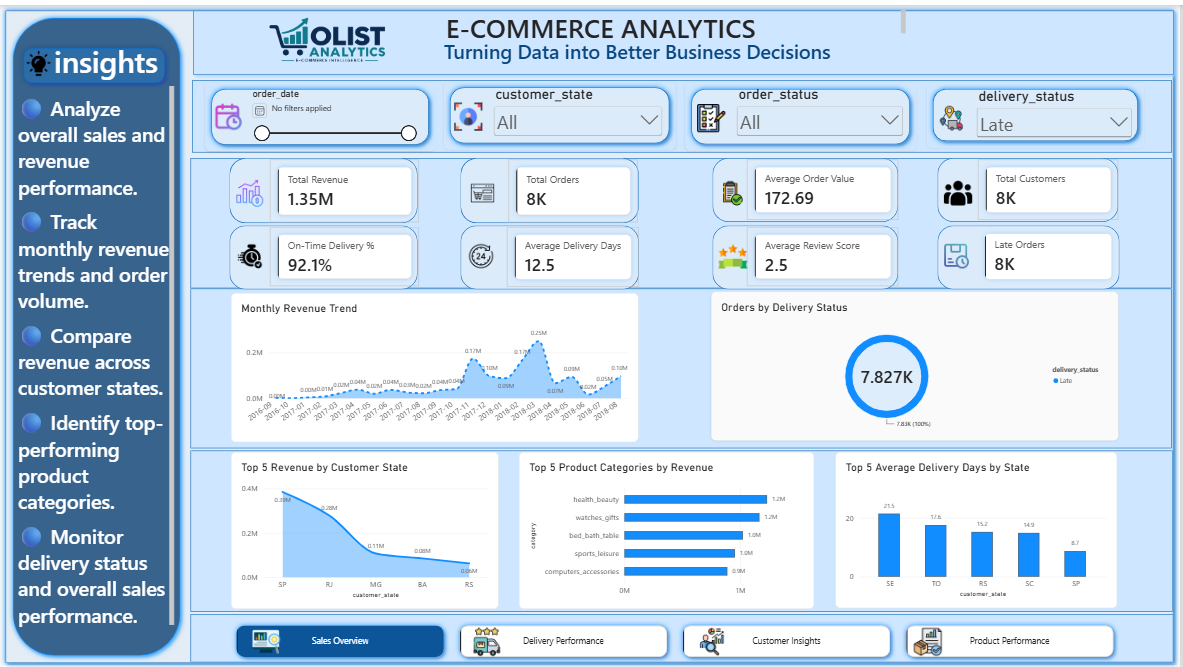

What the dashboard file says about the page in this screenshot:
{"tool":"powerbi","page":{"name":"Sales Overview","canvas":[1920,1080],"ordinal":0},"visuals":[{"type":"shape","box":[0,0,1917.6,1079.4],"z":0},{"type":"shape","box":[304.4,0,1613.3,122.2],"z":1000},{"type":"textbox","box":[725.4,6.6,748.5,46.4],"z":2000},{"type":"textbox","box":[722,53,828,46.4],"z":3000},{"type":"shape","box":[312,122,1594,118],"z":4000},{"type":"shape","box":[335,126,373.8,110.8],"z":5000},{"type":"shape","box":[723,125,376.9,110.8],"z":6000},{"type":"shape","box":[1116,126,375,110],"z":7000},{"type":"shape","box":[1509,128,353.3,105],"z":8000},{"type":"slicer","fields":{"Values":["Ecommerce.order_date"]},"box":[401.7,133.3,278.3,95],"z":9000},{"type":"slicer","fields":{"Values":["Ecommerce.customer_state"]},"box":[798,132,284,96],"z":10000},{"type":"slicer","fields":{"Values":["Ecommerce.order_status"]},"box":[1194,132,280,104],"z":11000},{"type":"slicer","fields":{"Values":["Ecommerce.delivery_status"]},"box":[1584,134,262,104],"z":12000},{"type":"shape","box":[310,250,1596,212],"z":13000},{"type":"shape","box":[310,460,1596,260],"z":14000},{"type":"shape","box":[310,723.8,1597.5,262.5],"z":15000},{"type":"shape","box":[308.8,991.2,1598.8,78.8],"z":16000},{"type":"shape","box":[1524,358,296,104],"z":17000},{"type":"shape","box":[1524,250,294,104],"z":18000},{"type":"shape","box":[1158,250,302,104],"z":19000},{"type":"shape","box":[1158,358,302,104],"z":20000},{"type":"shape","box":[748,250,290,106],"z":21000},{"type":"shape","box":[748,358,290,104],"z":22000},{"type":"shape","box":[374,250,306,106],"z":23000},{"type":"shape","box":[374,358,306,104],"z":24000},{"type":"cardVisual","fields":{"Data":["Ecommerce.Total Revenue"]},"box":[438,252,242,102],"z":25000},{"type":"cardVisual","fields":{"Data":["Ecommerce.Total Orders"]},"box":[828,252,210,102],"z":26000},{"type":"cardVisual","fields":{"Data":["Ecommerce.Average Order Value"]},"box":[1214,252,246,98],"z":27000},{"type":"cardVisual","fields":{"Data":["Ecommerce.Total Customers"]},"box":[1590,252,228,98],"z":28000},{"type":"cardVisual","fields":{"Data":["Ecommerce.On-Time Delivery %"]},"box":[438,362,242,96],"z":29000},{"type":"cardVisual","fields":{"Data":["Ecommerce.Average Delivery Days"]},"box":[823.5,361.8,214.7,97.1],"z":30000},{"type":"cardVisual","fields":{"Data":["Ecommerce.Average Review Score"]},"box":[1214,362,246,96],"z":31000},{"type":"cardVisual","fields":{"Data":["Ecommerce.Late Orders"]},"box":[1590,362,228,96],"z":32000},{"type":"lineChart","title":"Monthly Revenue Trend","fields":{"Category":["Ecommerce.order_month"],"Y":["Ecommerce.Total Revenue"]},"box":[375,467.5,662.5,242.5],"z":33000},{"type":"donutChart","title":"Orders by Delivery Status","fields":{"Category":["Ecommerce.delivery_status"],"Y":["Count(Ecommerce.order_id)"]},"box":[1157.5,465,662.5,242.5],"z":34000},{"type":"areaChart","title":"Top 5 Revenue by Customer State","fields":{"Category":["Ecommerce.customer_state"],"Y":["Ecommerce.Total Revenue"]},"box":[375,727.5,435,255],"z":35000},{"type":"clusteredBarChart","title":"Top 5 Product Categories by Revenue","fields":{"Category":["olist_ecommerce powerbi_category_sales.category"],"Y":["Sum(olist_ecommerce powerbi_category_sales.product_revenue)"]},"box":[845,727.5,480,255],"z":36000},{"type":"clusteredColumnChart","title":"Top 5 Average Delivery Days by State","fields":{"Category":["Ecommerce.customer_state"],"Y":["Ecommerce.Average Delivery Days"]},"box":[1360,728,458,254],"z":37000},{"type":"pageNavigator","box":[376.9,1000.6,1445,69.4],"z":38000},{"type":"image","box":[340,158,61.7,46.7],"z":39000},{"type":"image","box":[724,158,74,46],"z":40000},{"type":"image","box":[1120,162,74,46],"z":41000},{"type":"image","box":[1510,160,74,46],"z":42000},{"type":"image","box":[376,282,61.7,46.7],"z":43000},{"type":"image","box":[754,282,62,46],"z":44000},{"type":"image","box":[1162,282,61.7,46.7],"z":45000},{"type":"image","box":[1528,282,62,46],"z":46000},{"type":"image","box":[376,386,61.7,46.7],"z":47000},{"type":"image","box":[752,386,62,46],"z":48000},{"type":"image","box":[1162,386,61.7,46.7],"z":49000},{"type":"image","box":[1526,386,62,46],"z":50000},{"type":"image","box":[402,1012,61.7,46.7],"z":51000},{"type":"image","box":[762,1012,61.7,46.7],"z":52000},{"type":"image","box":[1126,1012,61.7,46.7],"z":53000},{"type":"image","box":[1478,1012,61.7,46.7],"z":54000},{"type":"image","box":[313.3,0,440,113.3],"z":55000},{"type":"shape","box":[12.5,12.5,290,1055],"z":56000},{"type":"textbox","box":[29.7,132.4,254.1,878.4],"z":57000},{"type":"shape","box":[30,60,247.5,75],"z":58000},{"type":"textbox","box":[87.1,57.9,189.3,64.3],"z":59000},{"type":"image","box":[41.7,60,42.5,67.5],"z":60000}]}

Visuals, with their boxes in screenshot pixels (x1, y1, x2, y2), scaled from the page's 1920x1080 canvas onto the 1183x667 screenshot:
shape: x1=0 y1=0 x2=1182 y2=666
shape: x1=188 y1=0 x2=1182 y2=75
textbox: x1=447 y1=4 x2=908 y2=33
textbox: x1=445 y1=33 x2=955 y2=61
shape: x1=192 y1=75 x2=1174 y2=148
shape: x1=206 y1=78 x2=437 y2=146
shape: x1=445 y1=77 x2=678 y2=146
shape: x1=688 y1=78 x2=919 y2=146
shape: x1=930 y1=79 x2=1147 y2=144
slicer - Ecommerce.order_date: x1=248 y1=82 x2=419 y2=141
slicer - Ecommerce.customer_state: x1=492 y1=82 x2=667 y2=141
slicer - Ecommerce.order_status: x1=736 y1=82 x2=908 y2=146
slicer - Ecommerce.delivery_status: x1=976 y1=83 x2=1137 y2=147
shape: x1=191 y1=154 x2=1174 y2=285
shape: x1=191 y1=284 x2=1174 y2=445
shape: x1=191 y1=447 x2=1175 y2=609
shape: x1=190 y1=612 x2=1175 y2=661
shape: x1=939 y1=221 x2=1121 y2=285
shape: x1=939 y1=154 x2=1120 y2=219
shape: x1=713 y1=154 x2=900 y2=219
shape: x1=713 y1=221 x2=900 y2=285
shape: x1=461 y1=154 x2=640 y2=220
shape: x1=461 y1=221 x2=640 y2=285
shape: x1=230 y1=154 x2=419 y2=220
shape: x1=230 y1=221 x2=419 y2=285
cardVisual - Ecommerce.Total Revenue: x1=270 y1=156 x2=419 y2=219
cardVisual - Ecommerce.Total Orders: x1=510 y1=156 x2=640 y2=219
cardVisual - Ecommerce.Average Order Value: x1=748 y1=156 x2=900 y2=216
cardVisual - Ecommerce.Total Customers: x1=980 y1=156 x2=1120 y2=216
cardVisual - Ecommerce.On-Time Delivery %: x1=270 y1=224 x2=419 y2=283
cardVisual - Ecommerce.Average Delivery Days: x1=507 y1=223 x2=640 y2=283
cardVisual - Ecommerce.Average Review Score: x1=748 y1=224 x2=900 y2=283
cardVisual - Ecommerce.Late Orders: x1=980 y1=224 x2=1120 y2=283
"Monthly Revenue Trend" lineChart: x1=231 y1=289 x2=639 y2=438
"Orders by Delivery Status" donutChart: x1=713 y1=287 x2=1121 y2=437
"Top 5 Revenue by Customer State" areaChart: x1=231 y1=449 x2=499 y2=607
"Top 5 Product Categories by Revenue" clusteredBarChart: x1=521 y1=449 x2=816 y2=607
"Top 5 Average Delivery Days by State" clusteredColumnChart: x1=838 y1=450 x2=1120 y2=606
pageNavigator: x1=232 y1=618 x2=1123 y2=661
image: x1=209 y1=98 x2=248 y2=126
image: x1=446 y1=98 x2=492 y2=126
image: x1=690 y1=100 x2=736 y2=128
image: x1=930 y1=99 x2=976 y2=127
image: x1=232 y1=174 x2=270 y2=203
image: x1=465 y1=174 x2=503 y2=203
image: x1=716 y1=174 x2=754 y2=203
image: x1=941 y1=174 x2=980 y2=203
image: x1=232 y1=238 x2=270 y2=267
image: x1=463 y1=238 x2=502 y2=267
image: x1=716 y1=238 x2=754 y2=267
image: x1=940 y1=238 x2=978 y2=267
image: x1=248 y1=625 x2=286 y2=654
image: x1=470 y1=625 x2=508 y2=654
image: x1=694 y1=625 x2=732 y2=654
image: x1=911 y1=625 x2=949 y2=654
image: x1=193 y1=0 x2=464 y2=70
shape: x1=8 y1=8 x2=186 y2=659
textbox: x1=18 y1=82 x2=175 y2=624
shape: x1=18 y1=37 x2=171 y2=83
textbox: x1=54 y1=36 x2=170 y2=75
image: x1=26 y1=37 x2=52 y2=79
